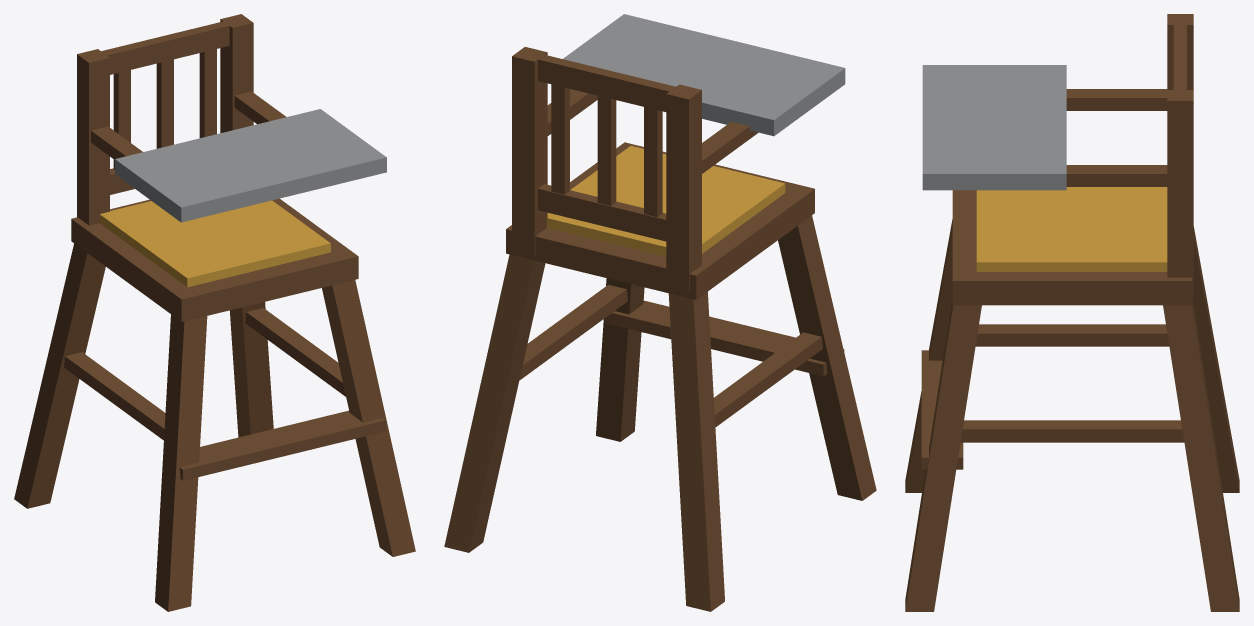
The model's file is FN_Chair_High.glb.
3 views of the same model, side by side, from view 1: azimuth 30°, elevation 25°; view 2: azimuth 150°, elevation 25°; view 3: azimuth 270°, elevation 25° (orthographic). The views are drawn at different scales.
Visible parts, largest first — view 1: FN_Chair_High; view 2: FN_Chair_High; view 3: FN_Chair_High.
Part boxes in pixels (left/top/right/bottom): FN_Chair_High: left=14, top=14, right=415, bottom=611; FN_Chair_High: left=444, top=14, right=876, bottom=611; FN_Chair_High: left=905, top=14, right=1239, bottom=611.
Bounding box in the file's own units: 0.518 × 0.9 × 0.558.
Materials: 1 (1 with a texture image).
